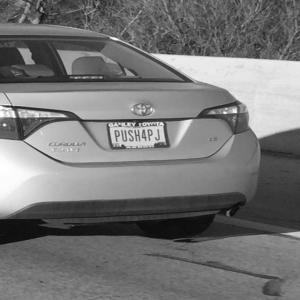Plate: (107, 122, 168, 149)
